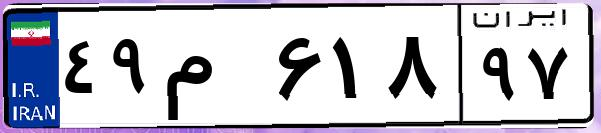1: (330, 28, 385, 110)
4: (57, 26, 110, 100)
6: (270, 28, 330, 110)
7: (525, 38, 570, 115)
8: (385, 28, 445, 110)
9: (475, 38, 525, 113), (110, 28, 158, 98)
م: (158, 20, 270, 120)
